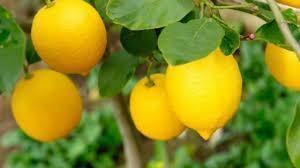lemon: (166, 45, 242, 141), (30, 0, 106, 76), (11, 68, 82, 141), (130, 73, 186, 140), (265, 40, 300, 91)
